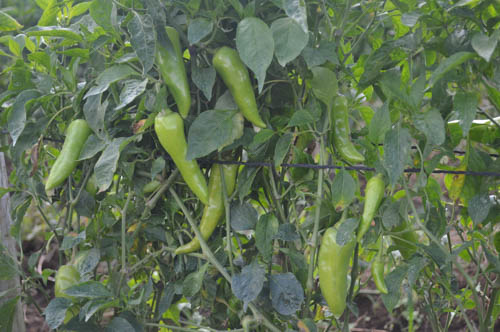ChiliPepper: (170, 161, 234, 258), (154, 114, 205, 203), (216, 48, 263, 126), (318, 228, 357, 319), (42, 120, 87, 196), (159, 29, 192, 117), (333, 93, 368, 162), (358, 178, 383, 242)
